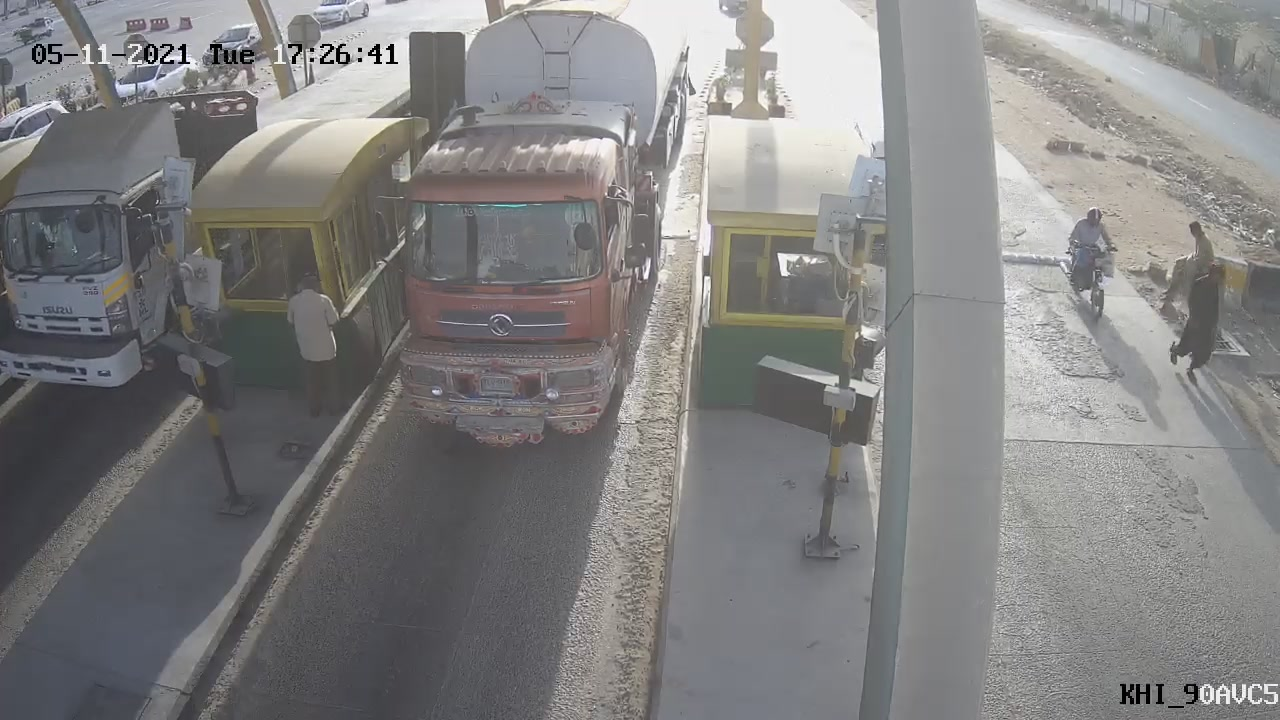F6: (344, 1, 715, 470)
